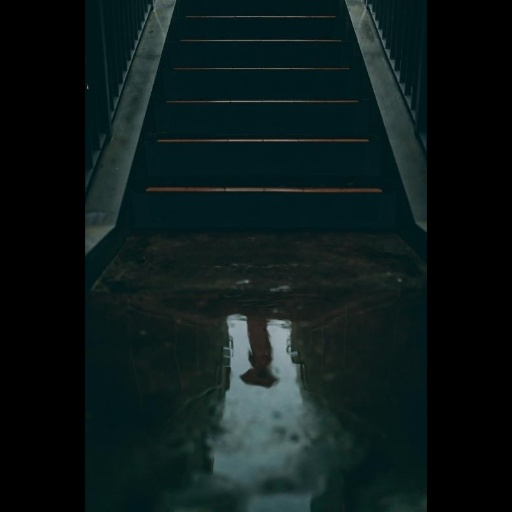Stairs: (133, 0, 399, 228)
